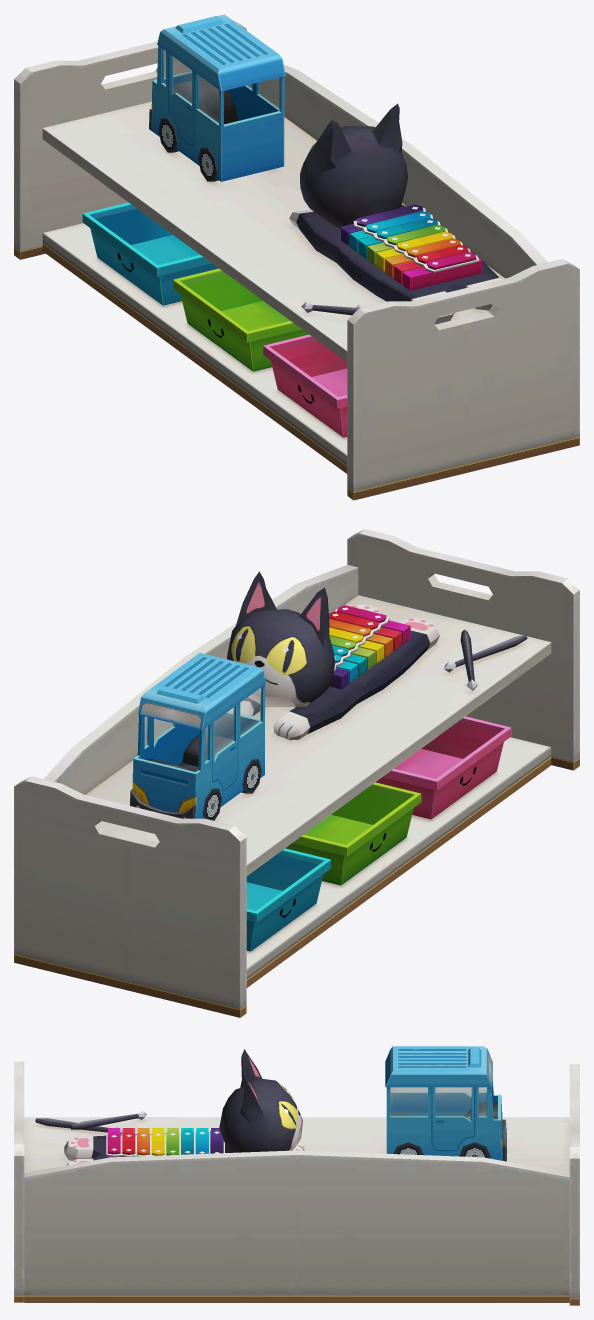
Rendered from my_shoppingmall_01_toyshelf_01.glb.
The picture shows the model from 3 angles, top to bottom: view 1: azimuth 30°, elevation 25°; view 2: azimuth 150°, elevation 25°; view 3: azimuth 270°, elevation 25°; orthographic projection. The views are drawn at different scales.
Parts seen in each view (by area): view 1: my_shoppingmall_01_toyshelf_01; view 2: my_shoppingmall_01_toyshelf_01; view 3: my_shoppingmall_01_toyshelf_01.
Part boxes in pixels (bbox=[...]): my_shoppingmall_01_toyshelf_01: bbox=[14, 14, 579, 500]; my_shoppingmall_01_toyshelf_01: bbox=[14, 529, 579, 1017]; my_shoppingmall_01_toyshelf_01: bbox=[14, 1046, 579, 1305].
Size of the model in its own units: 0.0044 by 0.00473 by 0.0114.
2 materials, 2 textured.
